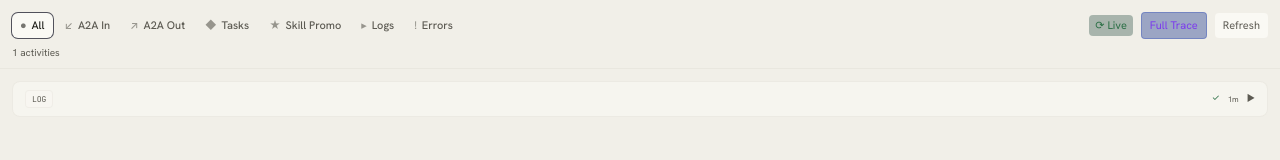
Test case: ActivityTab — row expand / collapse › clicking a row expands it (shows ▼)
What coordinates should you click on to do the following:
click the button "LOG ✓ 1m ▶"
I would click on:
 (39, 98)
Its box is [13,82,1267,116].
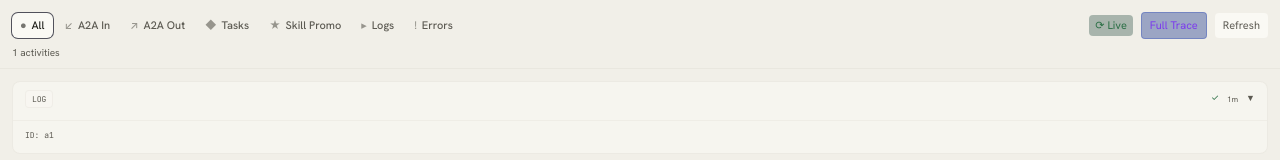
expect the text "▼" is shown: met, box [1246,92,1255,105]
